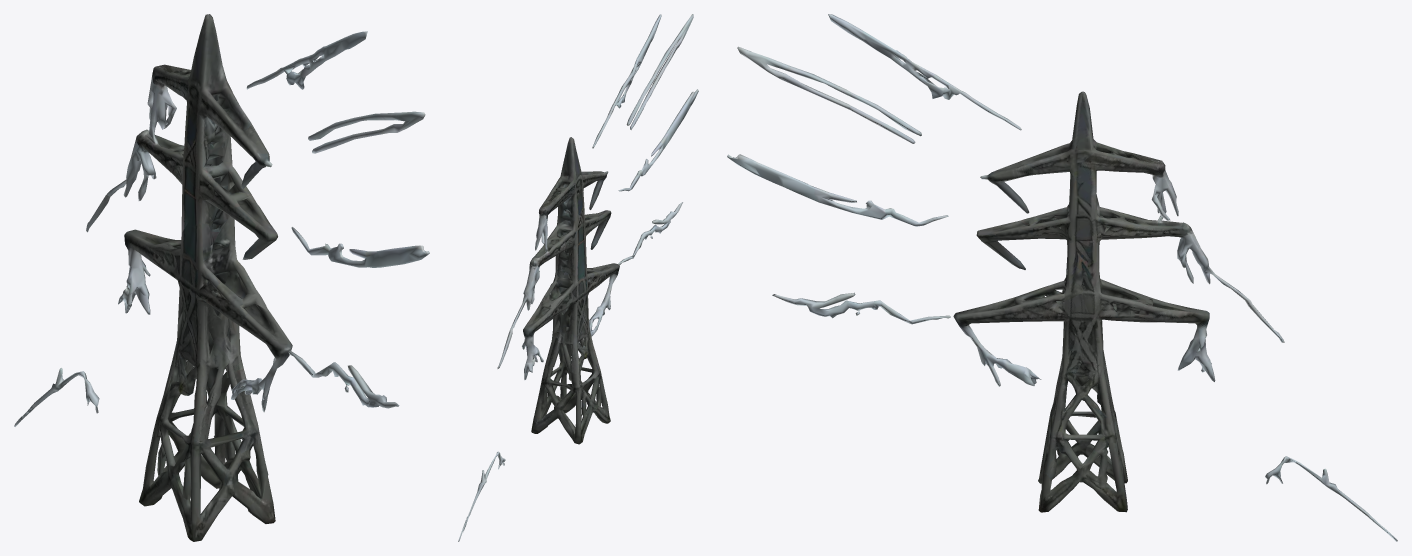
The model's file is fx_energy_pylon.glb.
3 renders of one model, left to right at view 1: azimuth 30°, elevation 25°; view 2: azimuth 150°, elevation 25°; view 3: azimuth 270°, elevation 25°, orthographic. The views are drawn at different scales.
Parts seen in each view (by area): view 1: tripo_node_fa7685bd-a6f6-4c3a-9276-7367b7585137; view 2: tripo_node_fa7685bd-a6f6-4c3a-9276-7367b7585137; view 3: tripo_node_fa7685bd-a6f6-4c3a-9276-7367b7585137.
Boxes of the visible parts, x1,y1,x2,y2 form: tripo_node_fa7685bd-a6f6-4c3a-9276-7367b7585137: [14, 14, 429, 541]; tripo_node_fa7685bd-a6f6-4c3a-9276-7367b7585137: [458, 14, 698, 541]; tripo_node_fa7685bd-a6f6-4c3a-9276-7367b7585137: [727, 14, 1397, 541].
Bounding box in the file's own units: 0.1047 × 0.7635 × 0.8782.
Materials: 1 (1 with a texture image).
